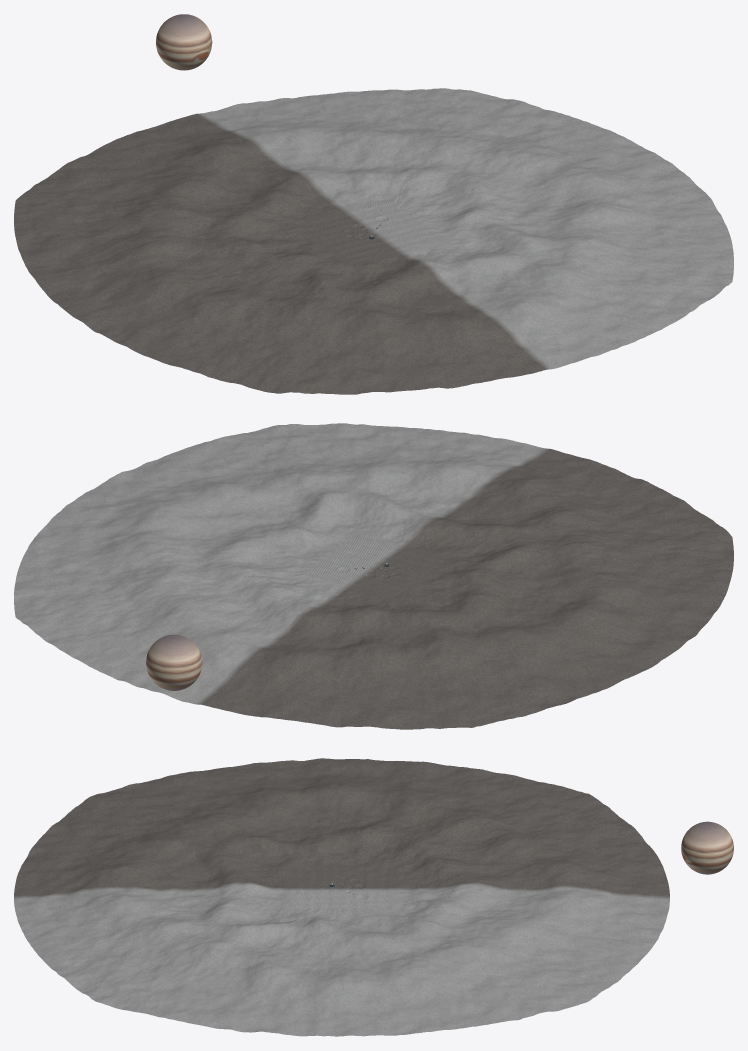
Rendered from GanymedeEnvironment.fbx.
3 renders of one model, top to bottom at view 1: azimuth 30°, elevation 25°; view 2: azimuth 150°, elevation 25°; view 3: azimuth 270°, elevation 25°, orthographic. The views are drawn at different scales.
Visible parts, largest first — view 1: Ganymede | 360 degree horizon relief.001, Ganymede | continuous terrain.001, Jupiter | procedural banded sky prop.001; view 2: Ganymede | 360 degree horizon relief.001, Ganymede | continuous terrain.001, Jupiter | procedural banded sky prop.001; view 3: Ganymede | 360 degree horizon relief.001, Ganymede | continuous terrain.001, Jupiter | procedural banded sky prop.001.
Boxes of the visible parts, x1,y1,x2,y2 form: Ganymede | 360 degree horizon relief.001: (14, 88, 733, 394); Ganymede | continuous terrain.001: (304, 202, 443, 261); Jupiter | procedural banded sky prop.001: (156, 14, 212, 70); Ganymede | 360 degree horizon relief.001: (14, 423, 733, 729); Ganymede | continuous terrain.001: (304, 537, 443, 597); Jupiter | procedural banded sky prop.001: (146, 634, 202, 690); Ganymede | 360 degree horizon relief.001: (14, 758, 669, 1036); Ganymede | continuous terrain.001: (293, 868, 390, 909); Jupiter | procedural banded sky prop.001: (681, 821, 733, 874).
Bounding box in the file's own units: 122000 × 15897 × 133913.
19 materials, 3 textured.
